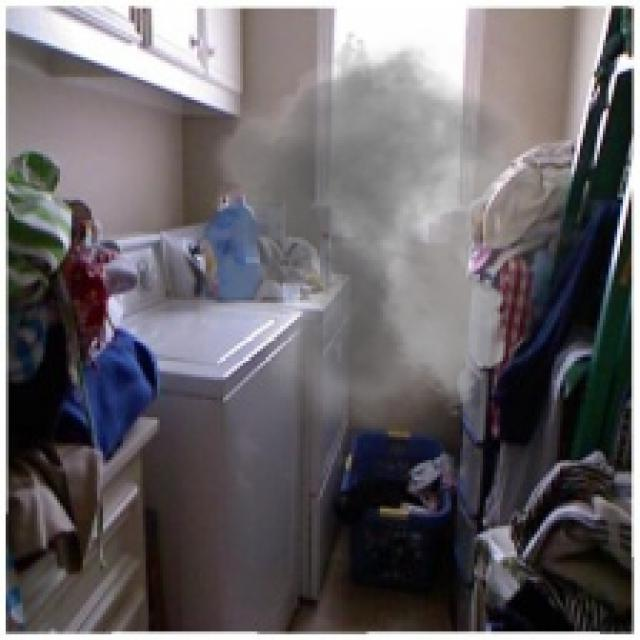smoke: (174, 17, 592, 432)
